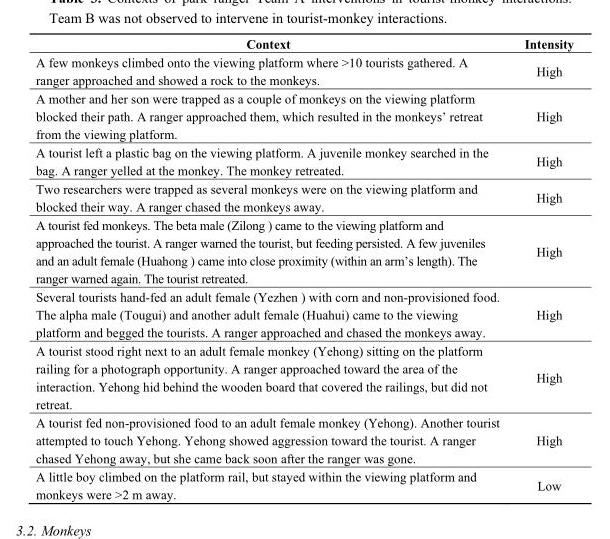table: (34, 34, 573, 502)
table column: (34, 34, 511, 502), (511, 34, 573, 502)
table column header: (34, 34, 573, 52)
table row: (34, 340, 573, 412), (34, 215, 573, 286), (34, 88, 573, 142), (34, 286, 573, 340), (34, 412, 573, 466), (34, 178, 573, 215), (34, 52, 573, 88), (34, 142, 573, 178), (34, 466, 573, 502), (34, 34, 573, 52)
